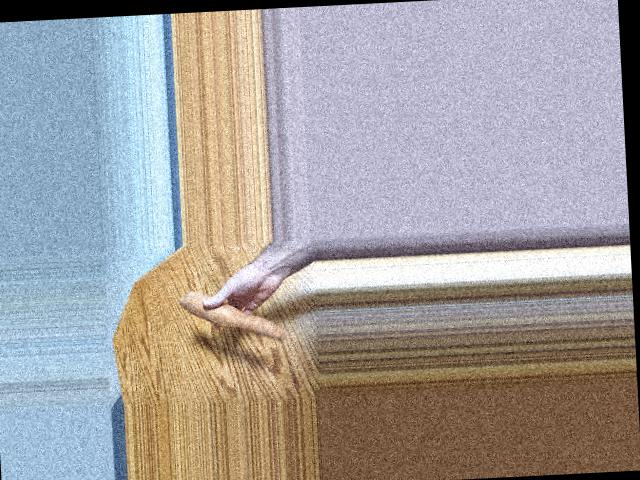sweet_potato: (176, 298, 286, 338)
